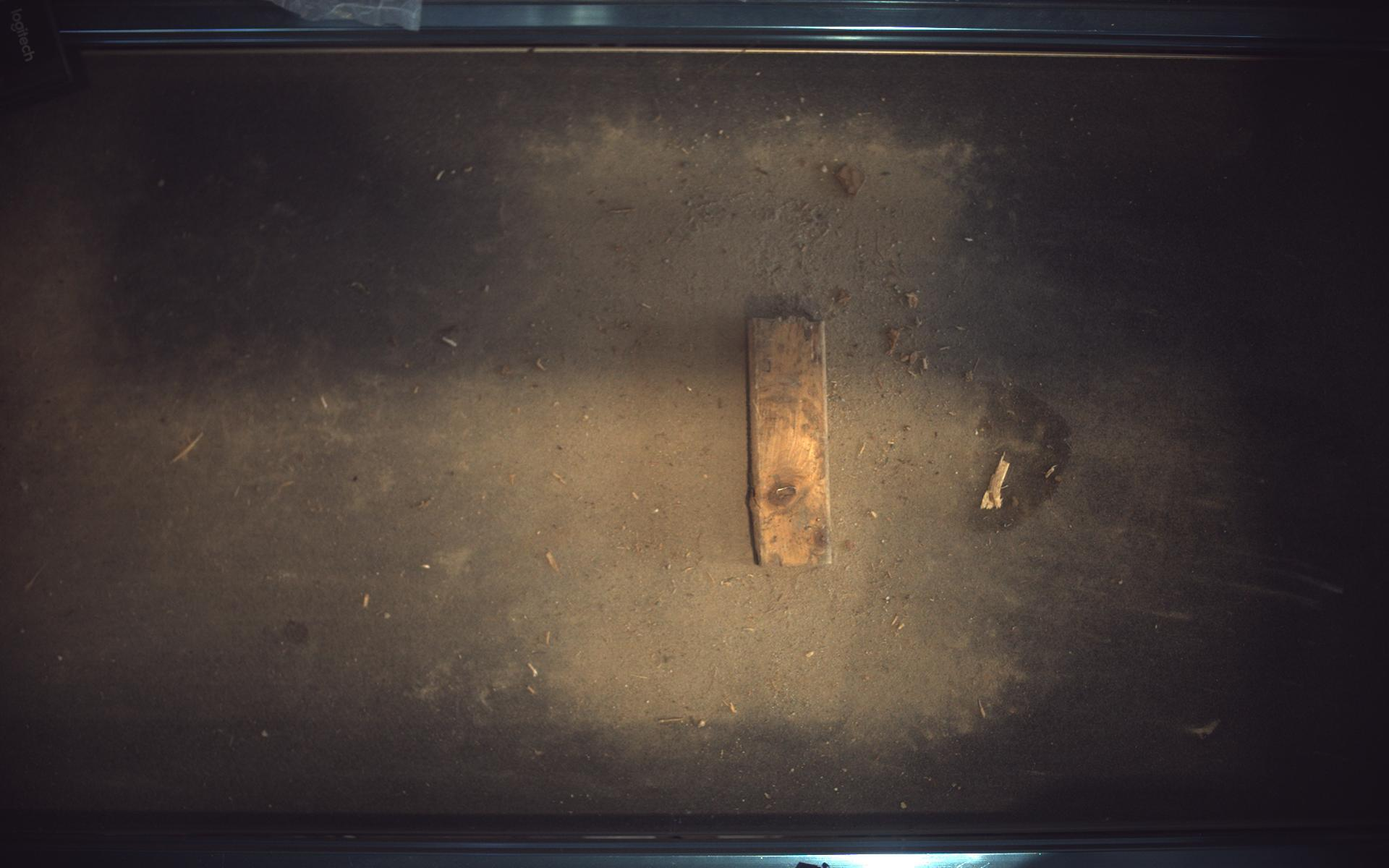wood: (749, 315, 833, 566)
